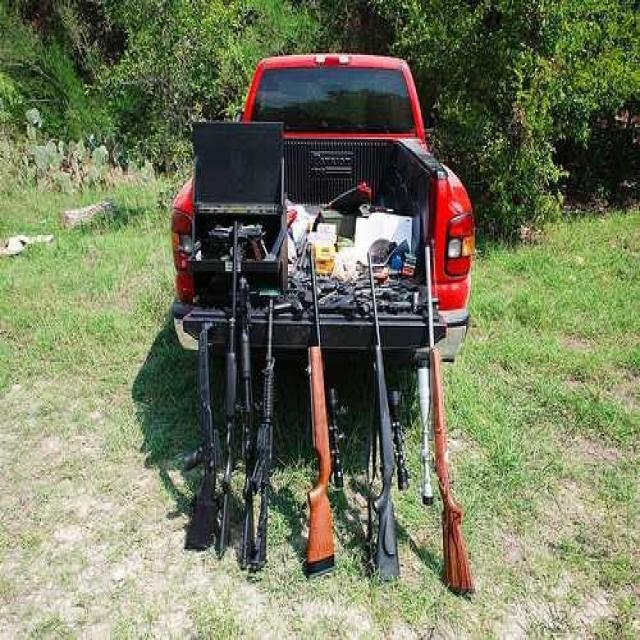weapon: (283, 238, 347, 586), (417, 352, 488, 604), (358, 249, 409, 568), (247, 294, 282, 564), (184, 323, 220, 549)
